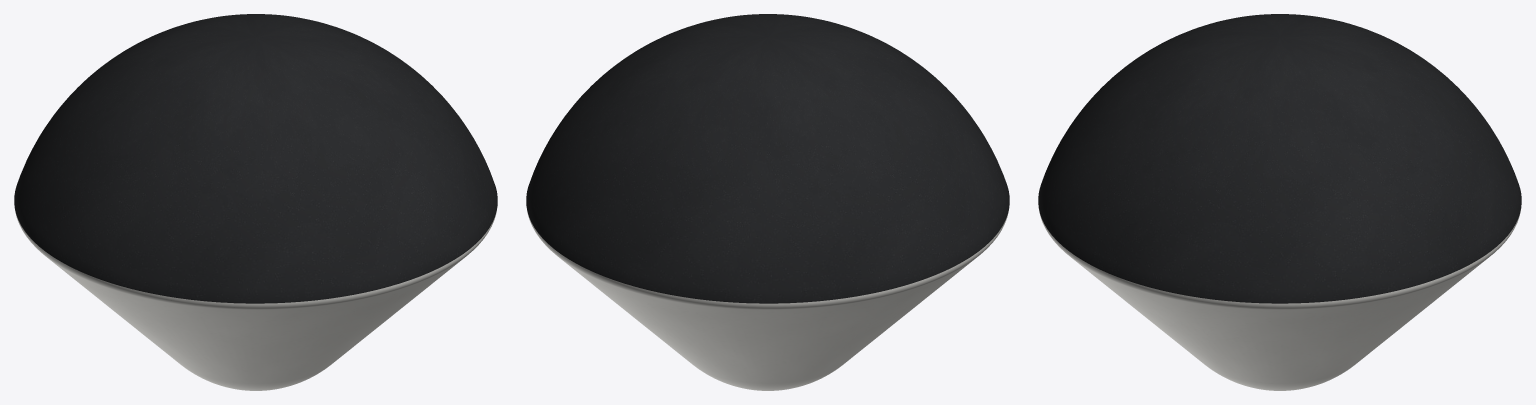
Rendered from ds2-exterior.glb.
The picture shows the model from 3 angles, left to right: view 1: azimuth 30°, elevation 25°; view 2: azimuth 150°, elevation 25°; view 3: azimuth 270°, elevation 25°; orthographic projection.
Parts seen in each view (by area): view 1: AEROSHELL_AFTSHELL_SiC, AEROSHELL_HEATSHIELD_HEATSHIELD_SIRCA_SIRCA; view 2: AEROSHELL_AFTSHELL_SiC, AEROSHELL_HEATSHIELD_HEATSHIELD_SIRCA_SIRCA; view 3: AEROSHELL_AFTSHELL_SiC, AEROSHELL_HEATSHIELD_HEATSHIELD_SIRCA_SIRCA.
Boxes of the visible parts, x1,y1,x2,y2 form: AEROSHELL_AFTSHELL_SiC: (14, 14, 497, 303); AEROSHELL_HEATSHIELD_HEATSHIELD_SIRCA_SIRCA: (15, 206, 497, 390); AEROSHELL_AFTSHELL_SiC: (526, 14, 1009, 303); AEROSHELL_HEATSHIELD_HEATSHIELD_SIRCA_SIRCA: (526, 206, 1008, 390); AEROSHELL_AFTSHELL_SiC: (1038, 14, 1521, 303); AEROSHELL_HEATSHIELD_HEATSHIELD_SIRCA_SIRCA: (1038, 208, 1521, 390).
Size of the model in its own units: 0.35 by 0.2732 by 0.35.
Materials: 17 (11 with a texture image).
